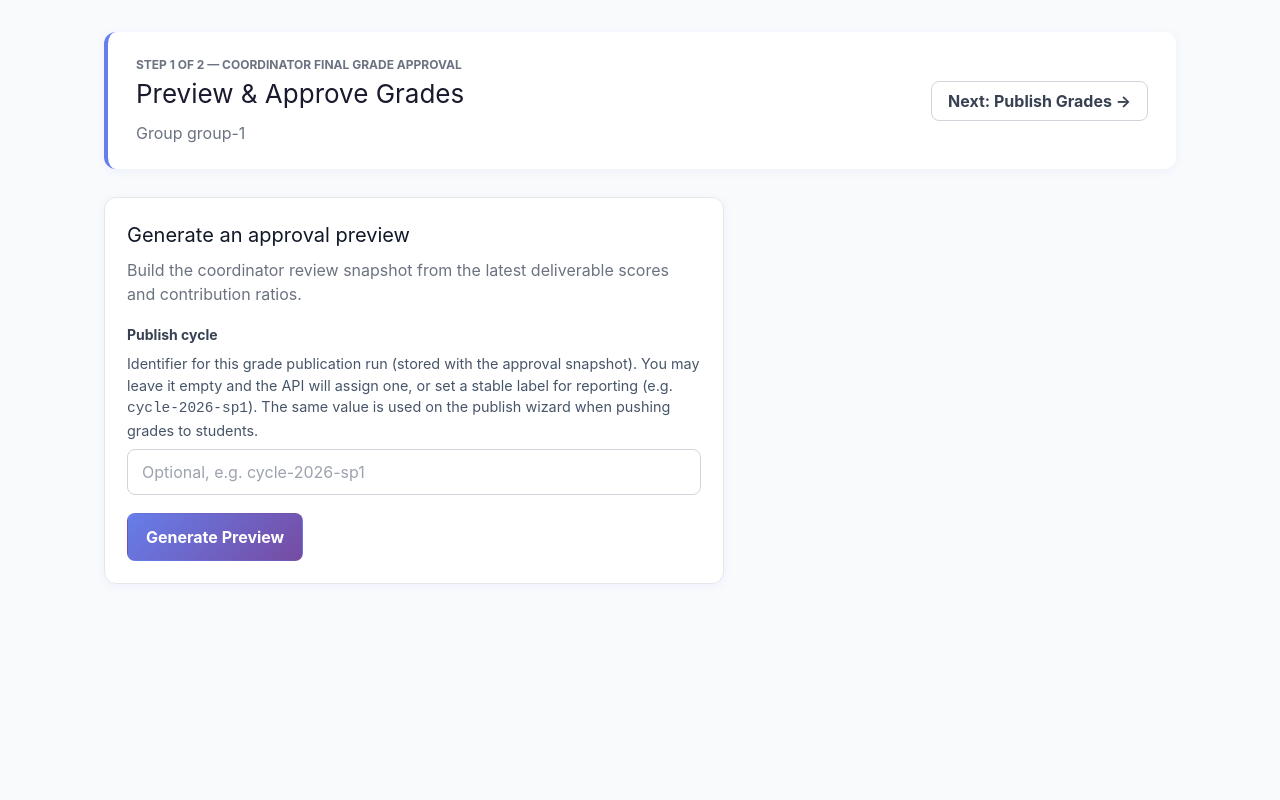
Test: CoordinatorFinalGradeApprovalPanel › validates override grade and reason before saving
The width and height of the screenshot is (1280, 800).
Click the button "Generate Preview" at (215, 537), box 127,513 -> 303,561
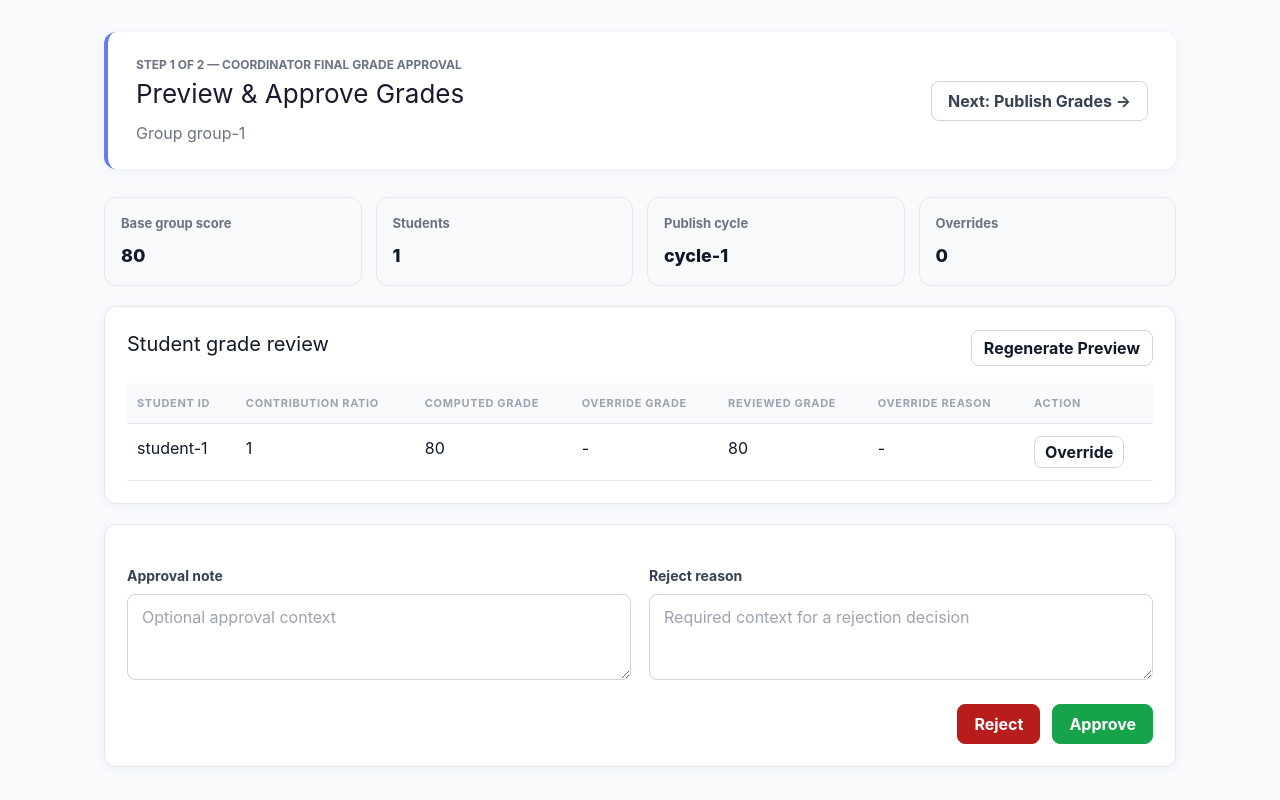
Result: the text "student-1" is shown at 127,424 -> 236,480
Click the button "Override" at (1079, 452), box 1034,436 -> 1124,468
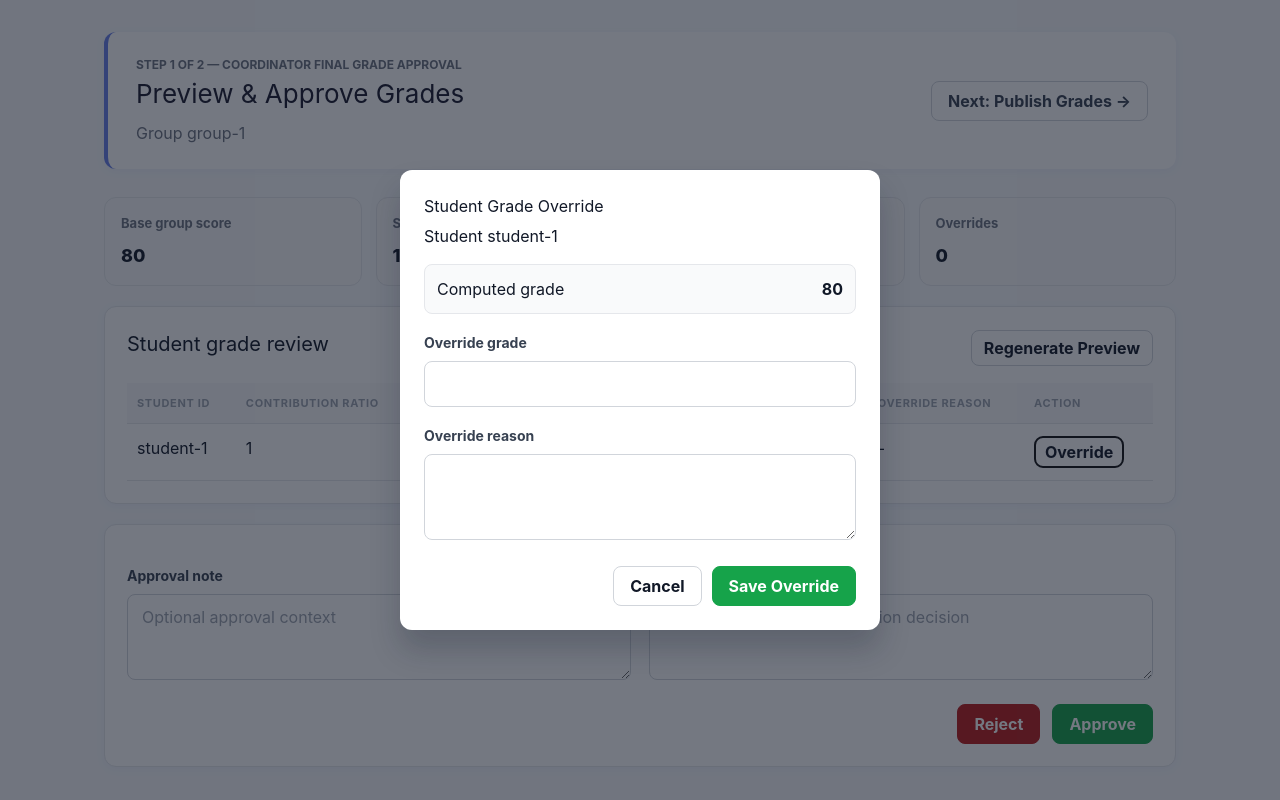
Type "101" into the number field labelled "Override grade" at (640, 384), box 424,361 -> 856,407
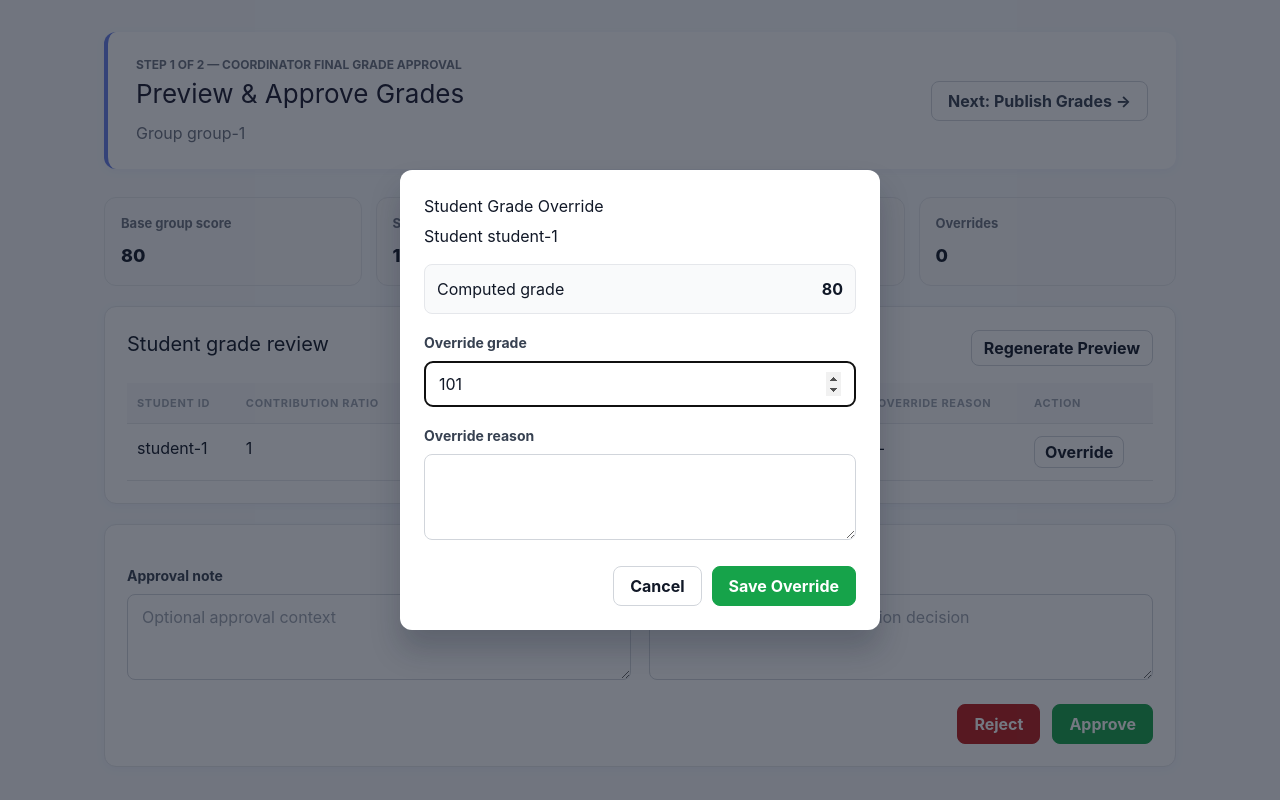
Click the button "Save Override" at (784, 586), box 712,566 -> 856,606
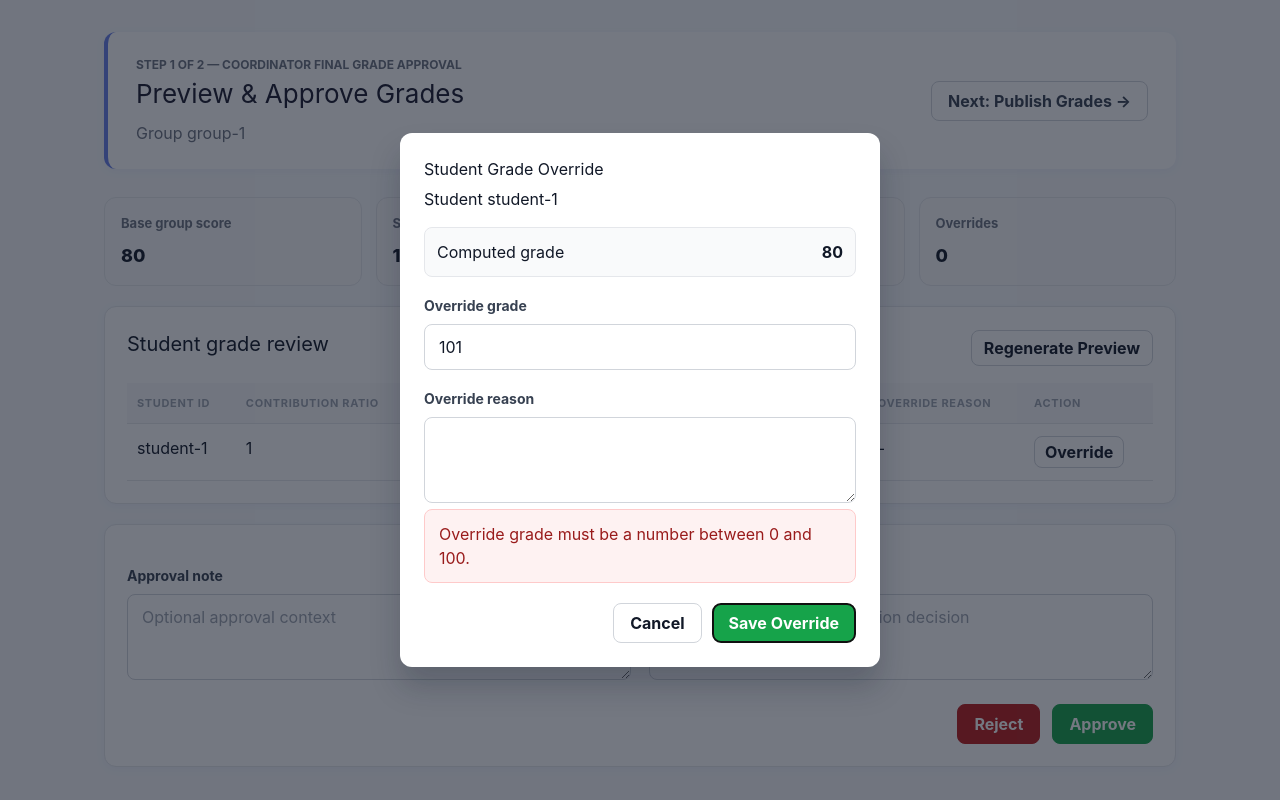
Result: the text "Override grade must be a number between 0 and 100." is shown at 424,509 -> 856,583
Replace the text in the number field labelled "Override grade" with "85" at (640, 347), box 424,324 -> 856,370
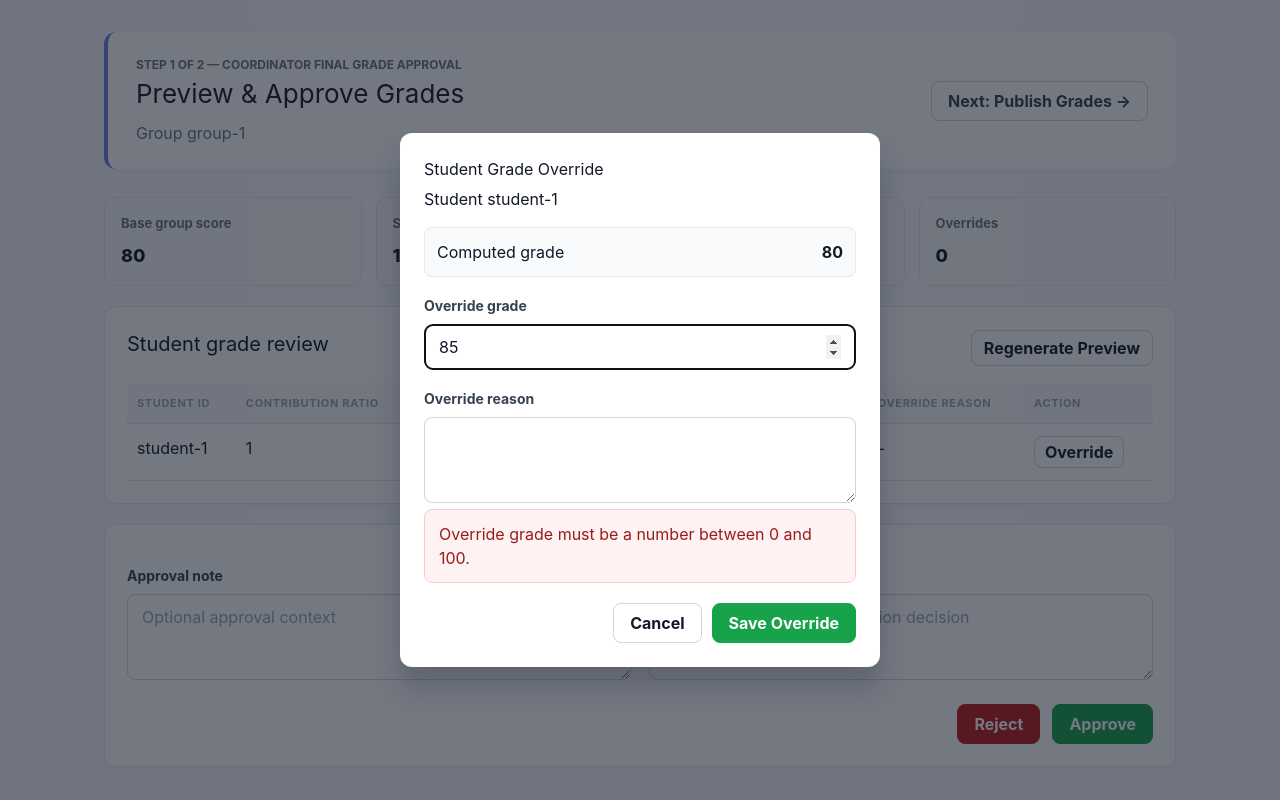
Click the button "Save Override" at (784, 623), box 712,603 -> 856,643
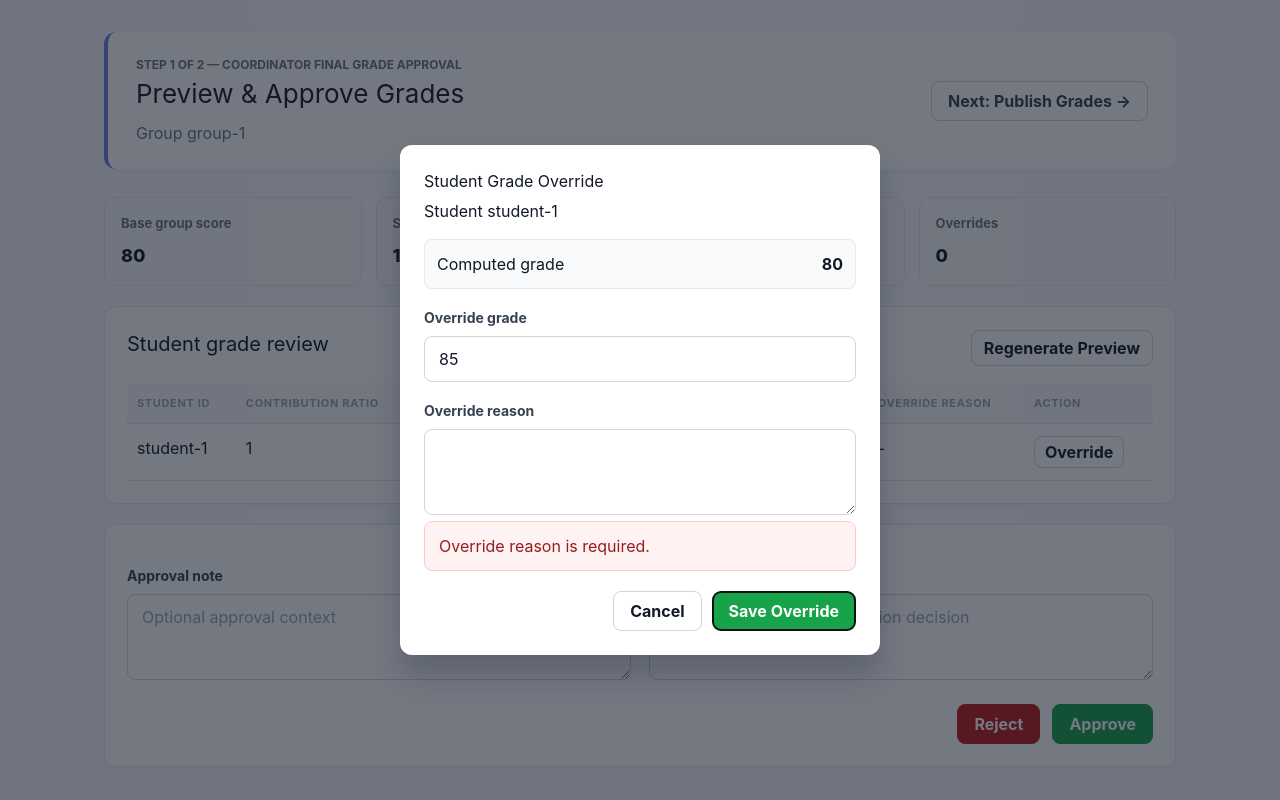
Result: the text "Override reason is required." is shown at 424,521 -> 856,571
